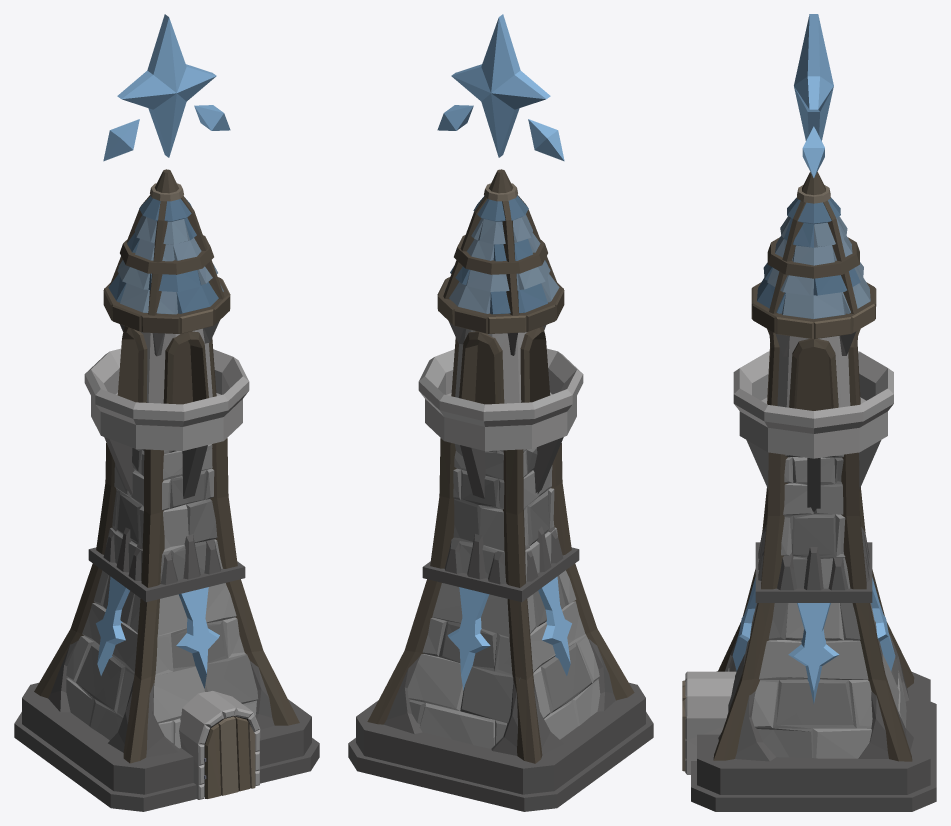
File: _Frosty_tower_LVL_4.fbx
3 views of the same model, side by side, from view 1: azimuth 30°, elevation 25°; view 2: azimuth 150°, elevation 25°; view 3: azimuth 270°, elevation 25° (orthographic).
Visible parts, largest first — view 1: Frosty_tower_LVL_4; view 2: Frosty_tower_LVL_4; view 3: Frosty_tower_LVL_4.
Boxes of the visible parts, box(x1,y1,x2,y2) form: Frosty_tower_LVL_4: box(14, 14, 319, 811); Frosty_tower_LVL_4: box(348, 14, 653, 811); Frosty_tower_LVL_4: box(682, 14, 936, 811).
Bounding box in the file's own units: 618 × 2070 × 640.
